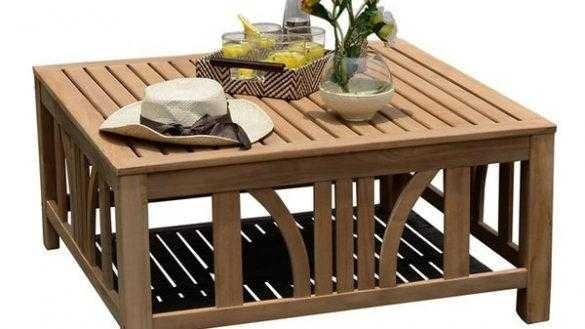obstacle: (34, 40, 554, 327)
